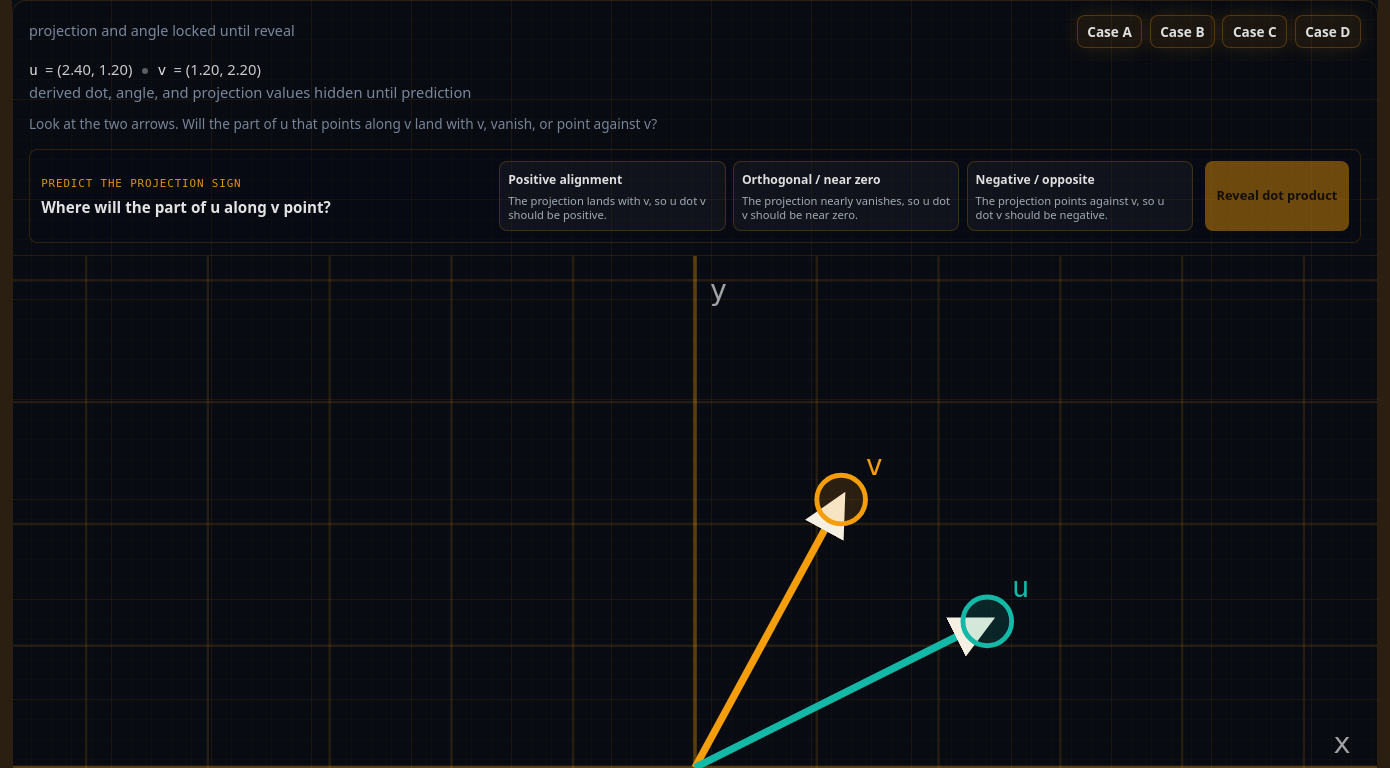
Test: DotProductViz prediction reveal › resets stale reveal and clears measured state when a neutral preset changes vectors
Click the button "Positive alignment" at (612, 196), box left=499, top=161, right=726, bottom=231
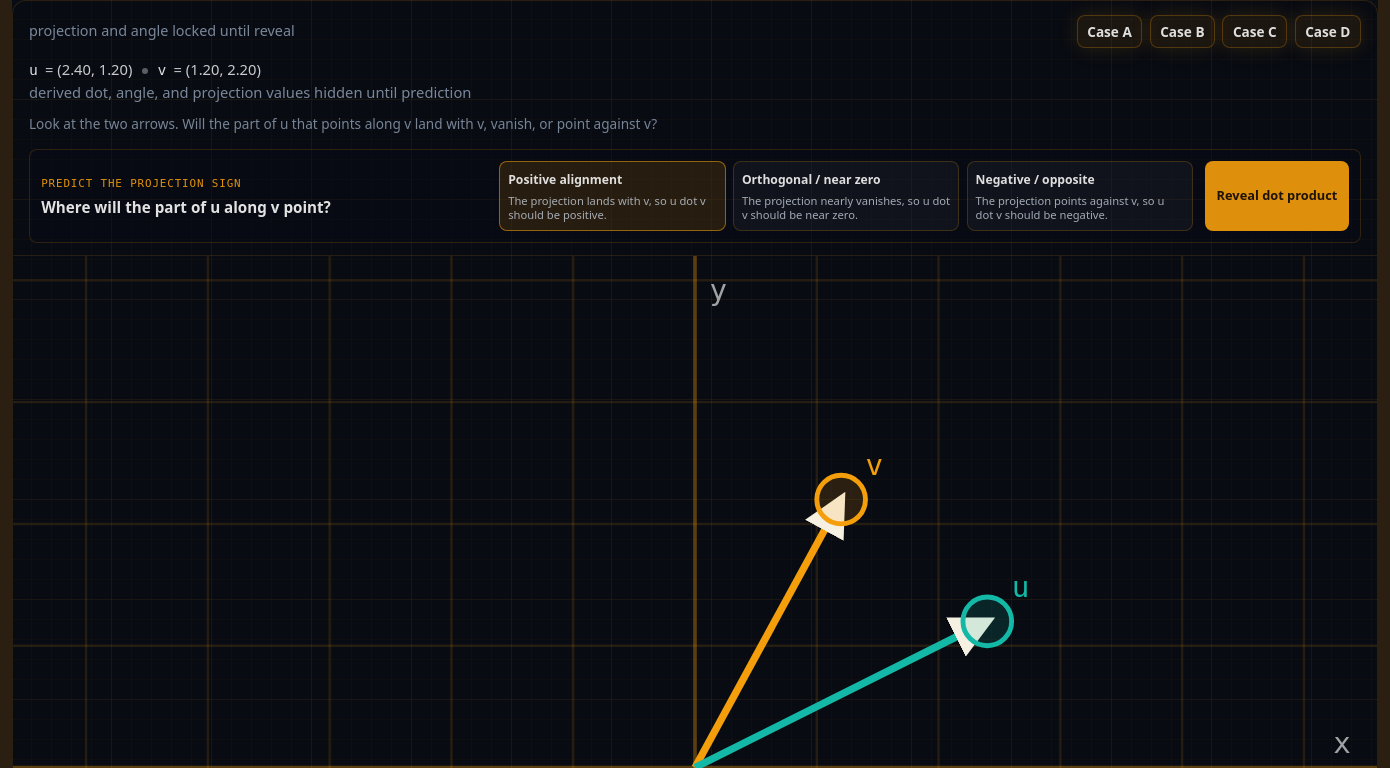
Click the button "Reveal dot product" at (1277, 196), box left=1205, top=161, right=1349, bottom=231
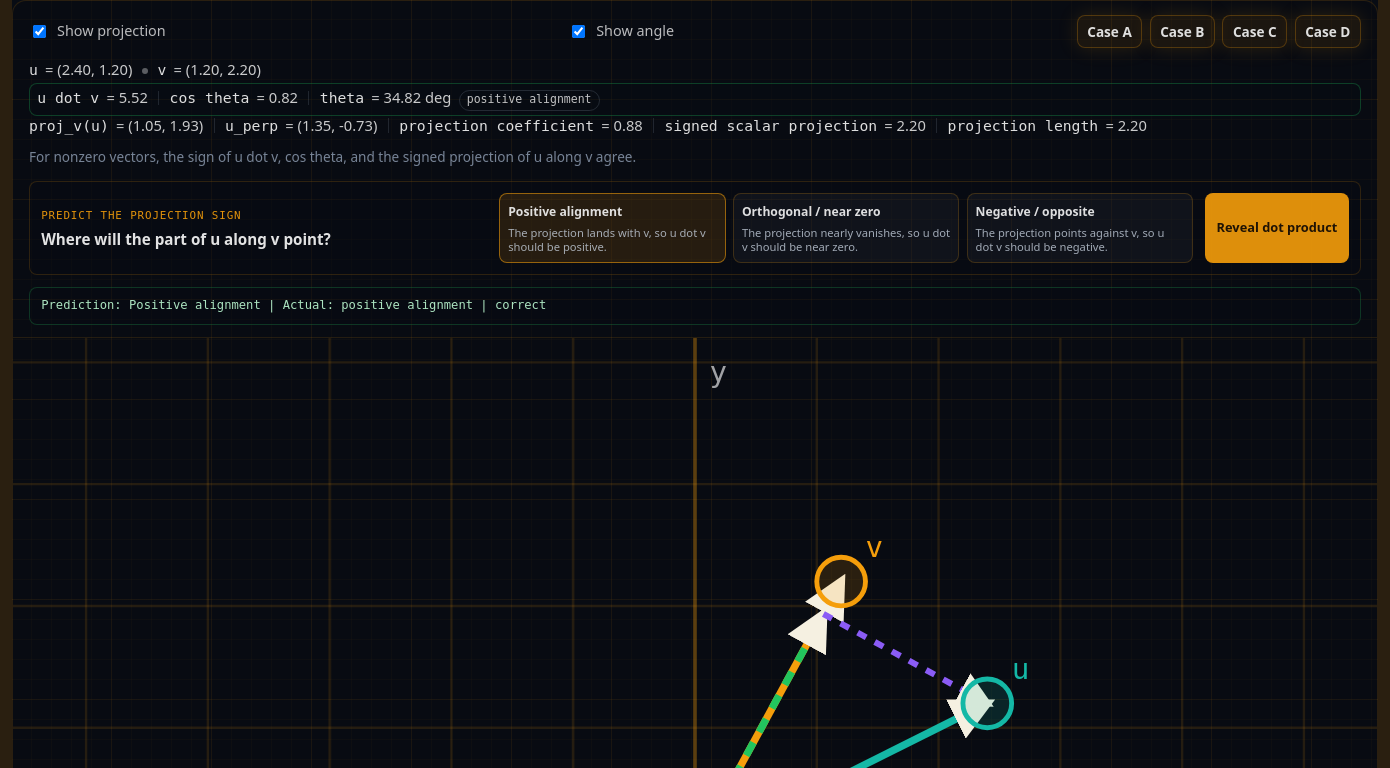
Now the text "Prediction: Positive alignment" is shown, box left=29, top=288, right=1361, bottom=325
Click the button "Case C" at (1255, 32), box left=1222, top=15, right=1287, bottom=48
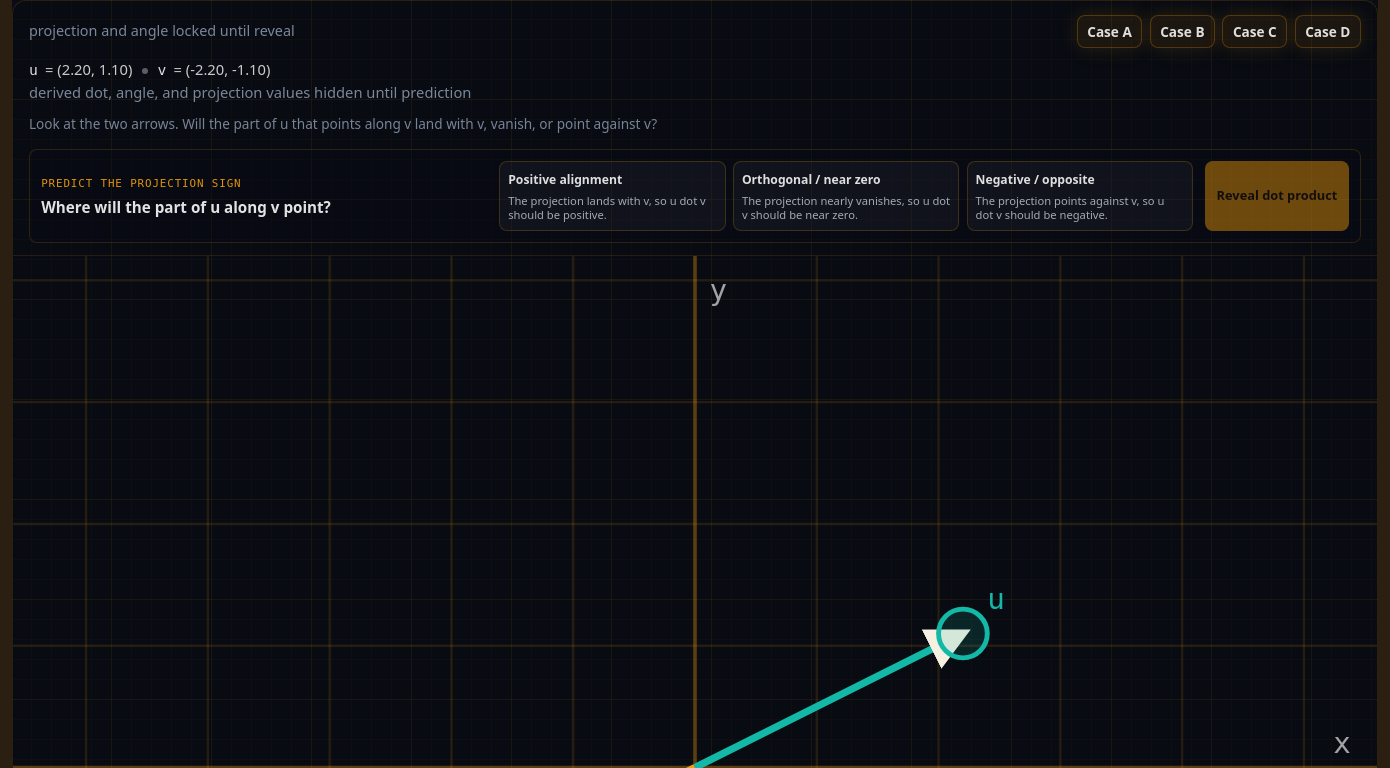
Now the text "Prediction: Positive alignment" is gone
Now the text "u dot v =" is gone
Now the button "Reveal dot product" is disabled, box left=1205, top=161, right=1349, bottom=231
